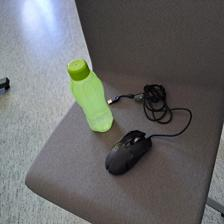bottle: (65, 58, 114, 132)
mouse: (103, 129, 153, 177)
